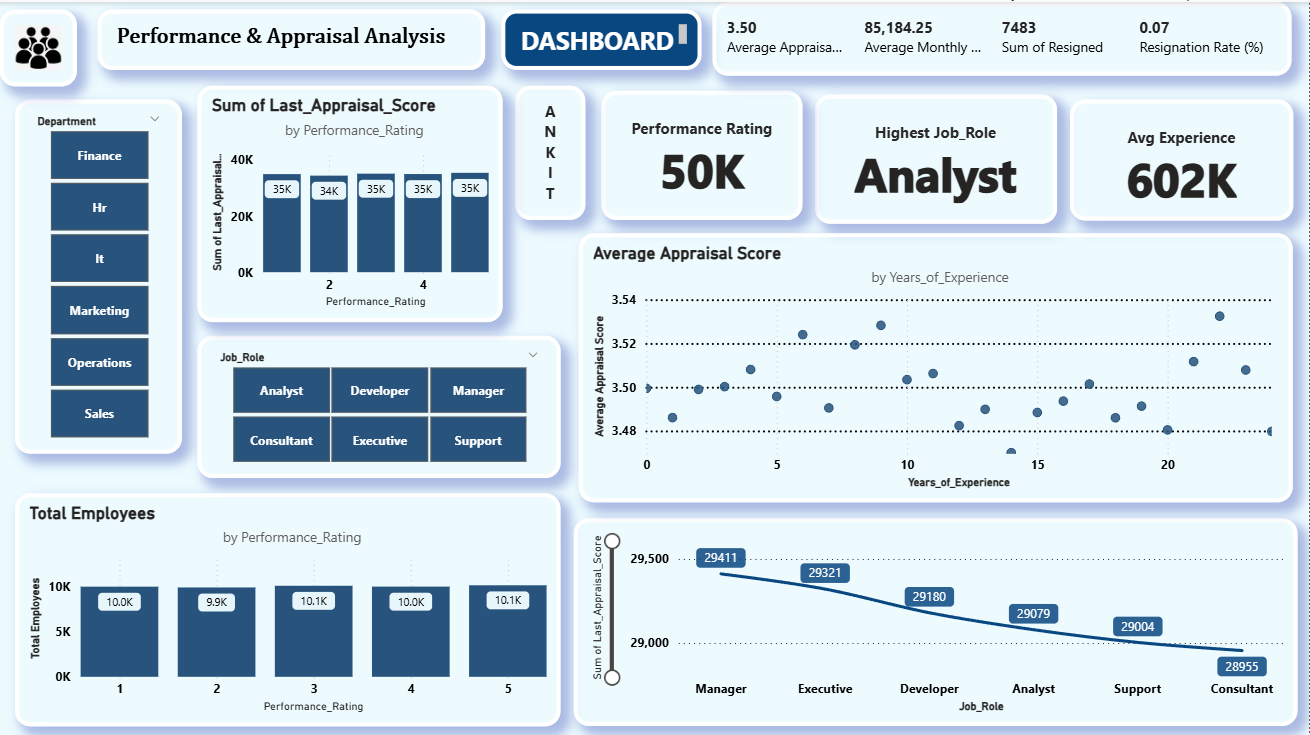

This screenshot's page, from the dashboard's own definition file:
{"tool":"powerbi","page":{"name":" Performance & Appraisal","canvas":[1280,720],"ordinal":2},"visuals":[{"type":"textbox","box":[95.8,7,378.9,59.2],"z":0},{"type":"textbox","box":[490.1,7,195.8,59.2],"z":1000},{"type":"cardVisual","fields":{"Data":["Min(ROW.Job_Role)"]},"box":[797.2,90.1,236.6,126.8],"z":2000},{"type":"cardVisual","fields":{"Data":["ROW.Performance Rating"]},"box":[588.7,87.3,197.2,126.8],"z":3000},{"type":"cardVisual","fields":{"Data":["Sum(ROW.Years_of_Experience)"]},"box":[1046.5,95.8,218.3,118.3],"z":4000},{"type":"slicer","fields":{"Values":["ROW.Department"]},"box":[14.1,95.8,163.4,346.5],"z":5000},{"type":"multiRowCard","fields":{"Values":["ROW.Average Appraisal Score","ROW.Average Monthly Income","Sum(ROW.Resigned)","ROW.Resignation Rate (%)"]},"box":[697.2,0,566.2,71.8],"z":6000},{"type":"textbox","box":[504.2,81.7,69,131],"z":7000},{"type":"image","box":[0,6.8,75.1,75.1],"z":8000},{"type":"slicer","fields":{"Values":["ROW.Job_Role"]},"box":[193,326.8,354.9,139.4],"z":9000},{"type":"columnChart","fields":{"Category":["ROW.Performance_Rating"],"Y":["ROW.Total Employees"]},"box":[14.1,480.3,533.8,228.2],"z":10000},{"type":"lineChart","fields":{"Y":["Sum(ROW.Last_Appraisal_Score)"],"Category":["ROW.Job_Role"]},"box":[561,505,708.4,203.4],"z":11000},{"type":"scatterChart","fields":{"Y":["ROW.Average Appraisal Score"],"X":["ROW.Years_of_Experience"]},"box":[566.2,226.8,698.6,263.4],"z":12000},{"type":"clusteredColumnChart","fields":{"Category":["ROW.Performance_Rating"],"Y":["Sum(ROW.Last_Appraisal_Score)"]},"box":[193,81.7,298.6,231],"z":13000}]}

Visuals, with their boxes in screenshot pixels (x1, y1, x2, y2), scaled from the page's 1280x720 canvas onto the 1310x735 screenshot:
textbox: <region>98, 7, 486, 68</region>
textbox: <region>502, 7, 702, 68</region>
cardVisual - Min(ROW.Job_Role): <region>816, 92, 1058, 221</region>
cardVisual - ROW.Performance Rating: <region>602, 89, 804, 219</region>
cardVisual - Sum(ROW.Years_of_Experience): <region>1071, 98, 1294, 219</region>
slicer - ROW.Department: <region>14, 98, 182, 452</region>
multiRowCard - ROW.Average Appraisal Score x ROW.Average Monthly Income: <region>714, 0, 1293, 73</region>
textbox: <region>516, 83, 587, 217</region>
image: <region>0, 7, 77, 84</region>
slicer - ROW.Job_Role: <region>198, 334, 561, 476</region>
columnChart - ROW.Performance_Rating x ROW.Total Employees: <region>14, 490, 561, 723</region>
lineChart - Sum(ROW.Last_Appraisal_Score) x ROW.Job_Role: <region>574, 516, 1299, 723</region>
scatterChart - ROW.Average Appraisal Score x ROW.Years_of_Experience: <region>579, 232, 1294, 500</region>
clusteredColumnChart - ROW.Performance_Rating x Sum(ROW.Last_Appraisal_Score): <region>198, 83, 503, 319</region>
